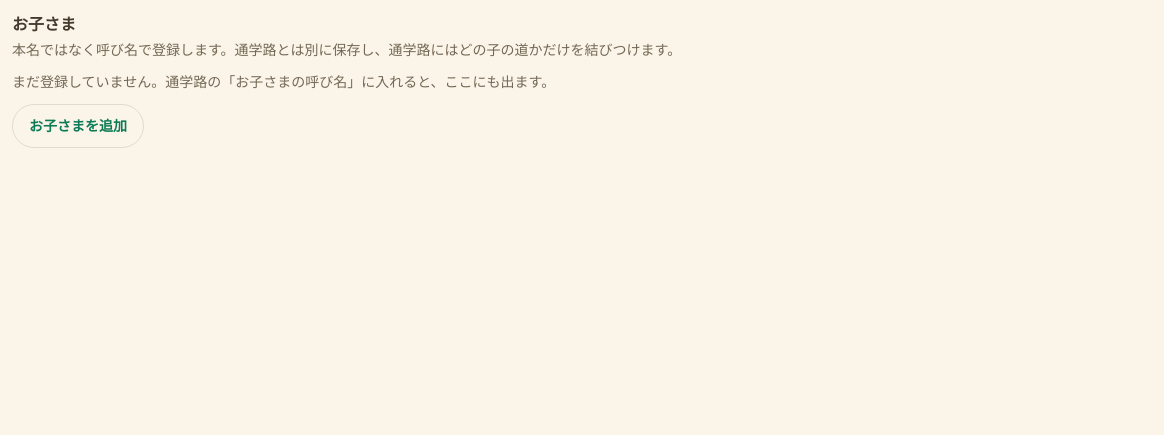
Scenario: ChildrenSettings(お子さまの登録) › 呼び名を入れて登録できる(本名ではなく呼び名で、を入力欄に添える)
Click the button "お子さまを追加". click: (78, 126)
box: [12,104,144,148]
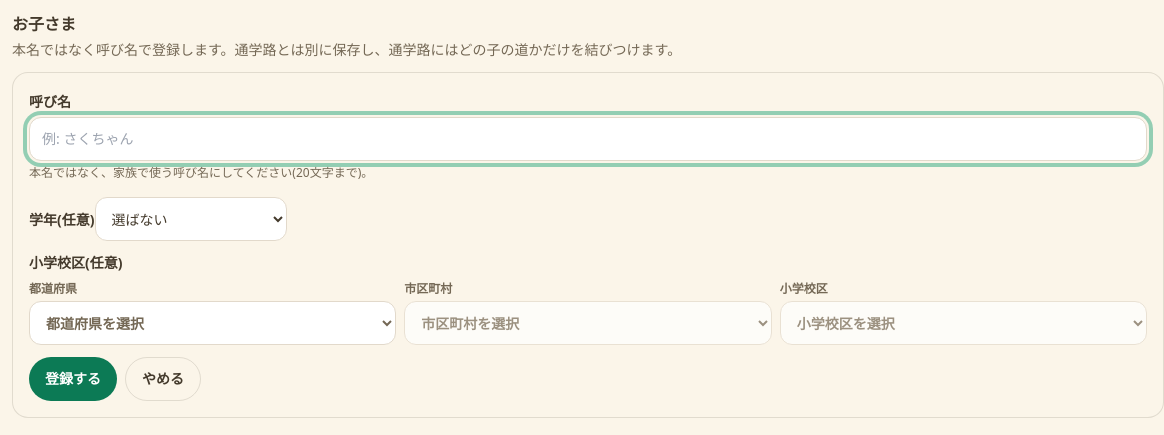
Type "だいくん" into the field labelled "呼び名". click: (588, 139)
box: [29,117,1147,161]
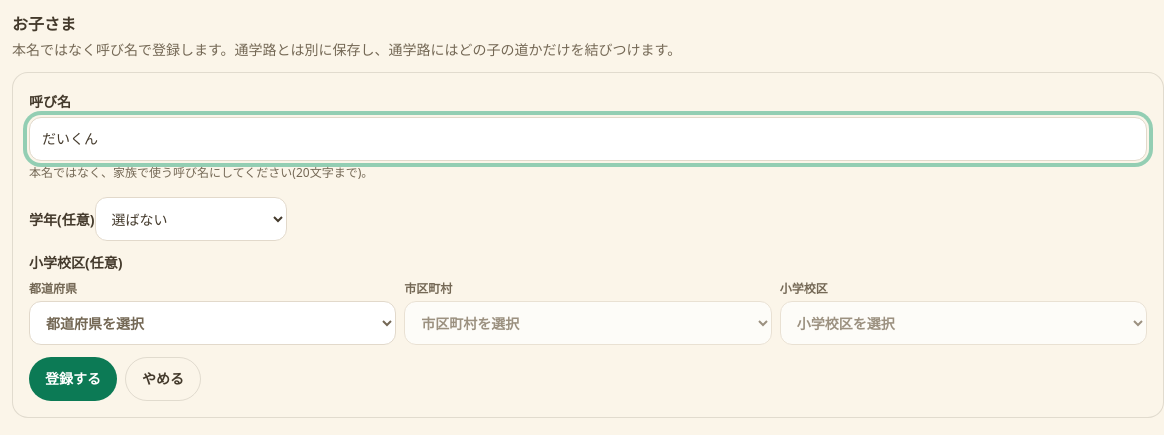
Select "2年生" in the dropdown labelled "学年(任意)". click: (190, 219)
box: [94,197,286,241]
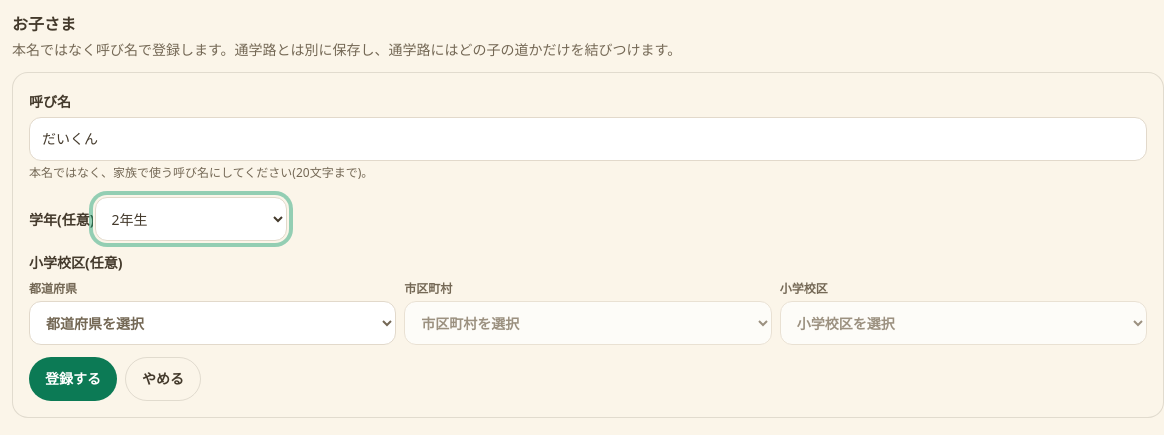
Click the button "登録する". click: (73, 379)
box: [29,357,117,401]
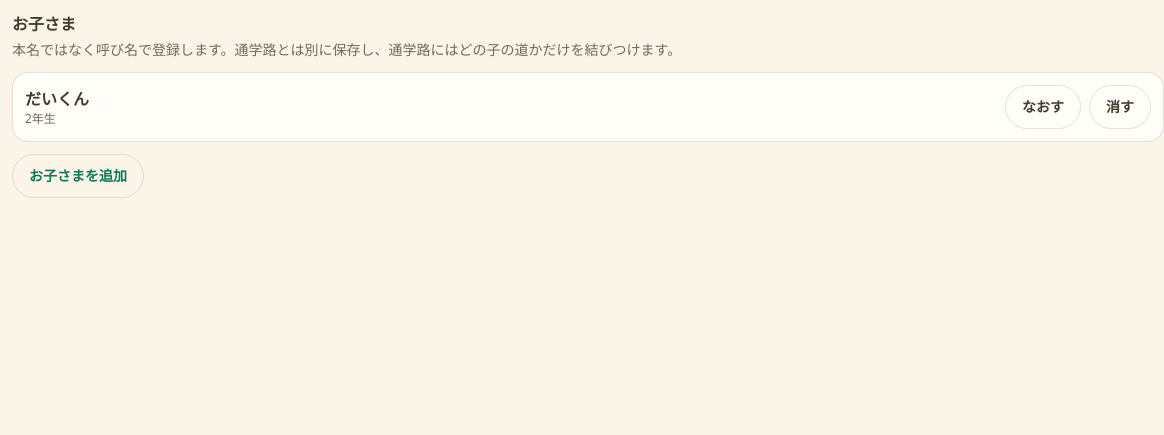
Expected: the text "だいくん" is shown, [25,87,89,111]
